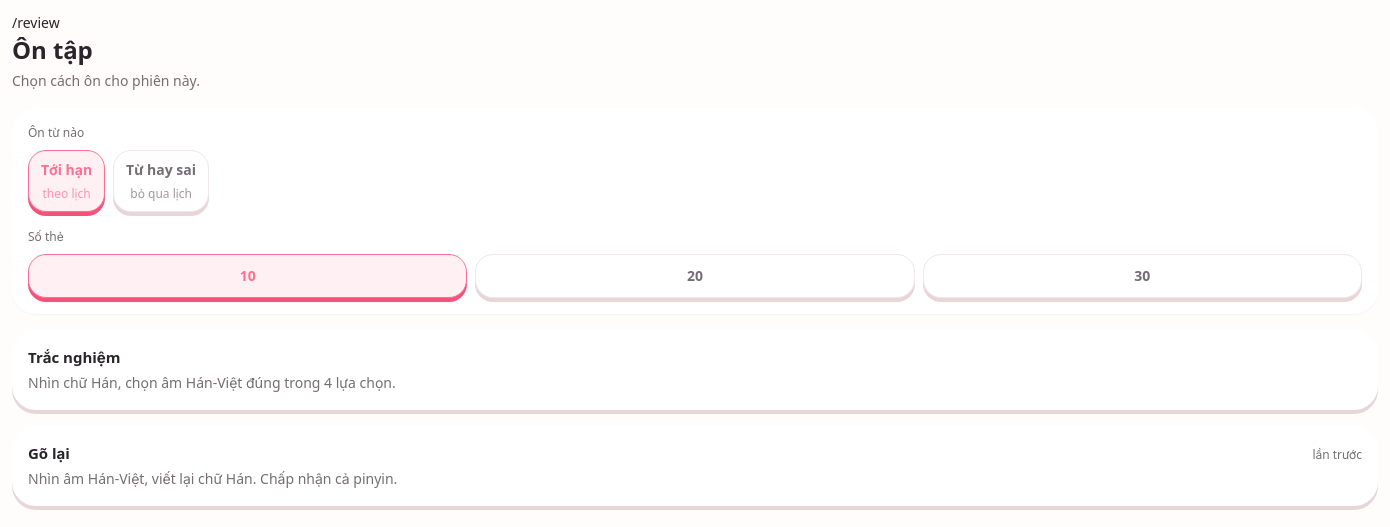
lỗi › 409 hiện thông báo phiên đã kết thúc, không kẹt màn
Click the text "Gõ lại". click: (49, 453)
box: x1=28 y1=442 x2=70 y2=464
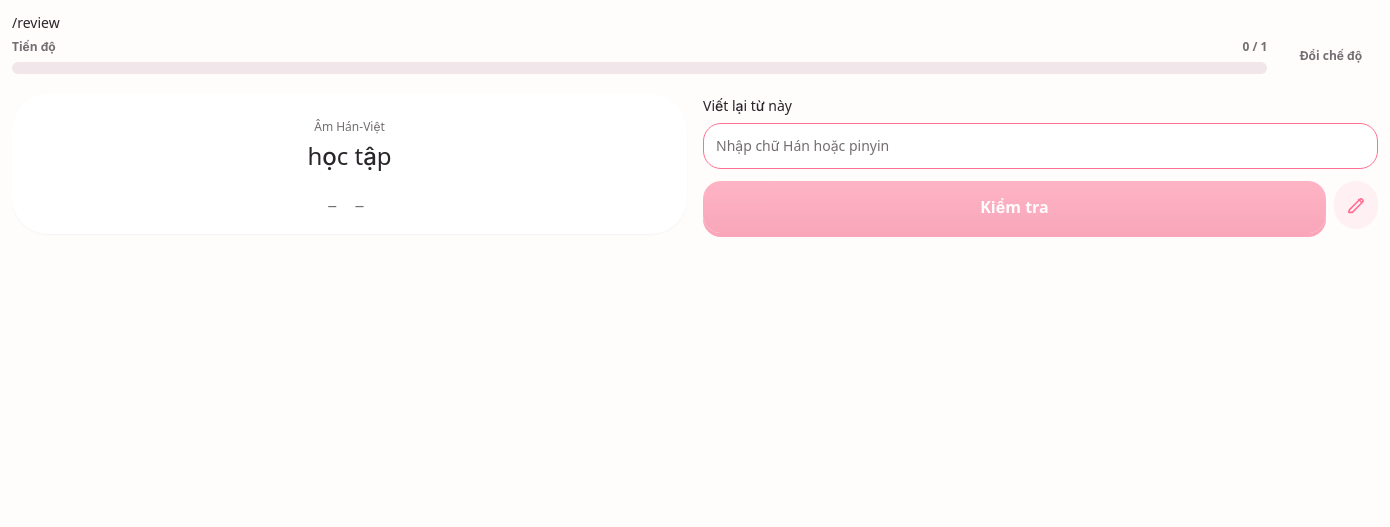
Type "学习" into the field. click: (1040, 146)
box: x1=716 y1=124 x2=1365 y2=168
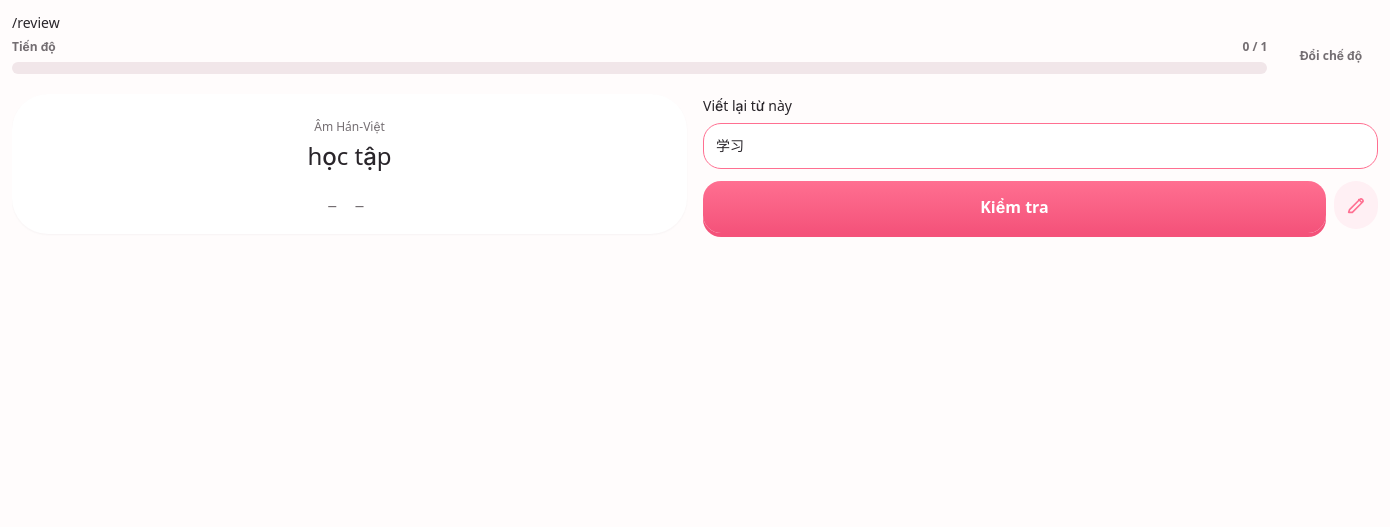
Press Enter
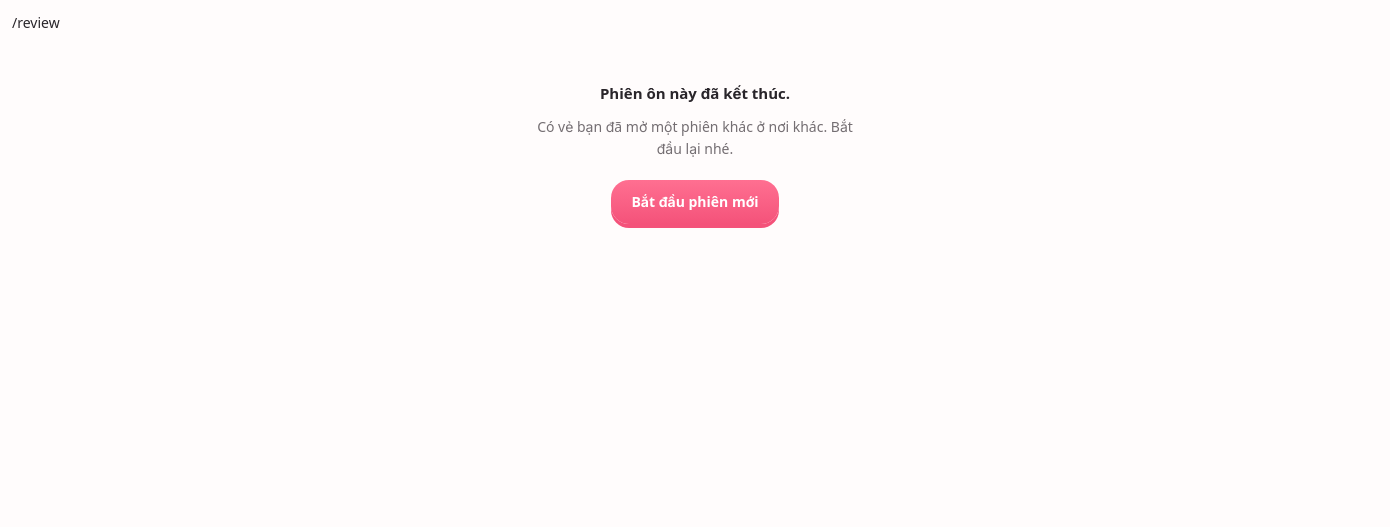
Check: the heading "Phiên ôn này đã kết thúc." is shown, box x1=600 y1=82 x2=790 y2=104
Check: the button "Bắt đầu phiên mới" is shown, box x1=612 y1=180 x2=779 y2=224
